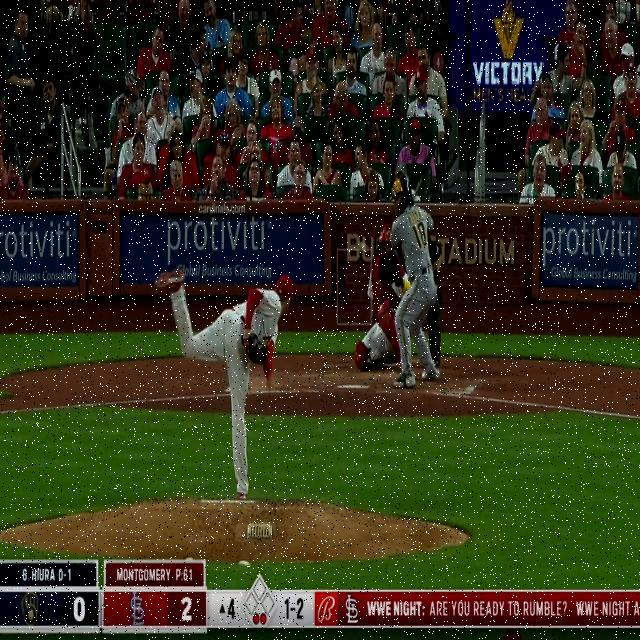baseball: (357, 239, 370, 254)
